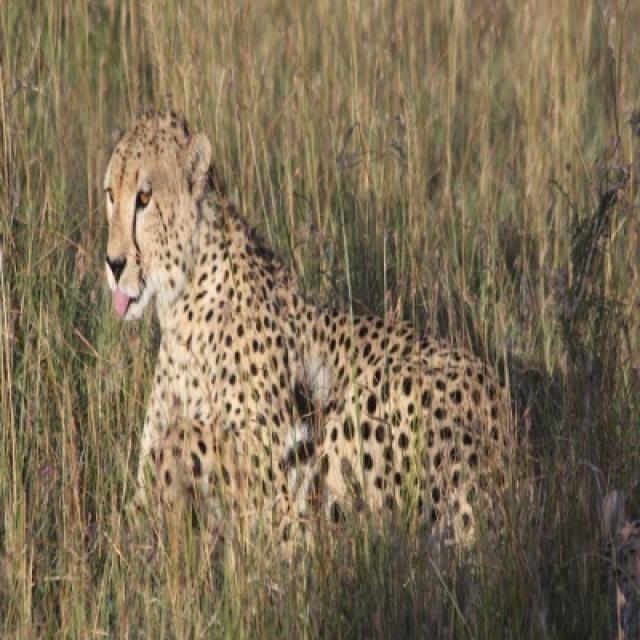Cheetah: (102, 110, 504, 552)
